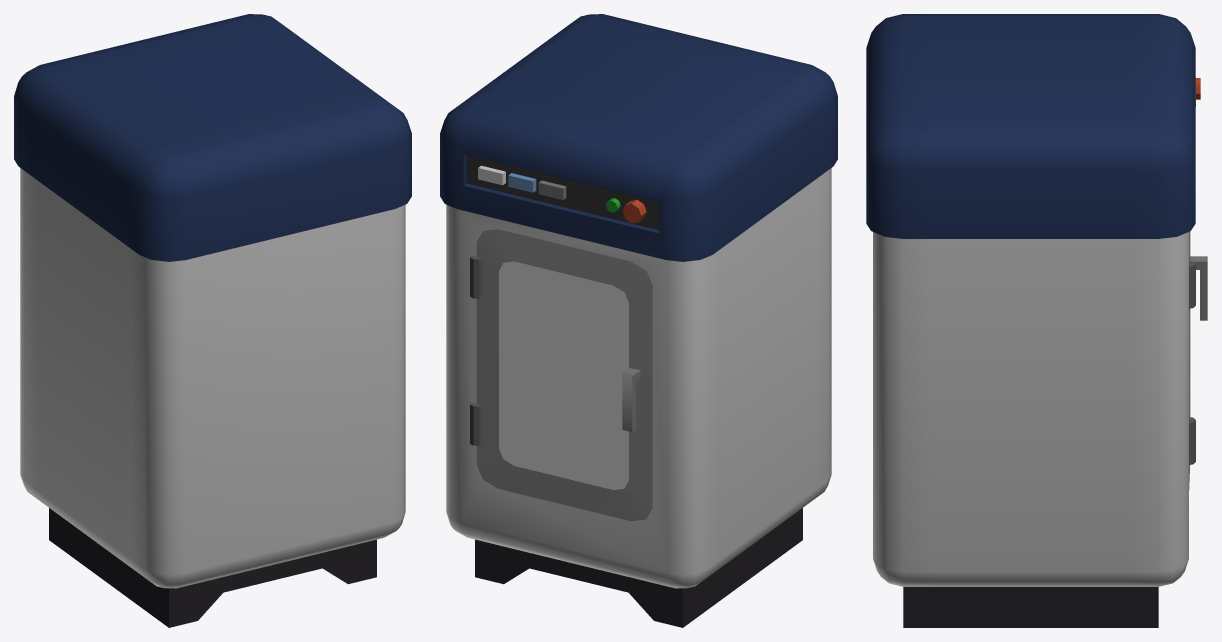
File: Chemical Heater.fbx
The picture shows the model from 3 angles, left to right: view 1: azimuth 30°, elevation 25°; view 2: azimuth 150°, elevation 25°; view 3: azimuth 270°, elevation 25°; orthographic projection. The views are drawn at different scales.
Visible parts, largest first — view 1: Chem Heater; view 2: Chem Heater, Chem Heater Door; view 3: Chem Heater, Chem Heater Door.
Part boxes in pixels (x1,y1,x2,y2): Chem Heater: (14,14,411,627); Chem Heater: (440,14,837,627); Chem Heater Door: (476,229,652,520); Chem Heater: (866,14,1200,627); Chem Heater Door: (1189,231,1207,489).
Bounding box in the file's own units: 0.5409 × 0.9102 × 0.5607.
